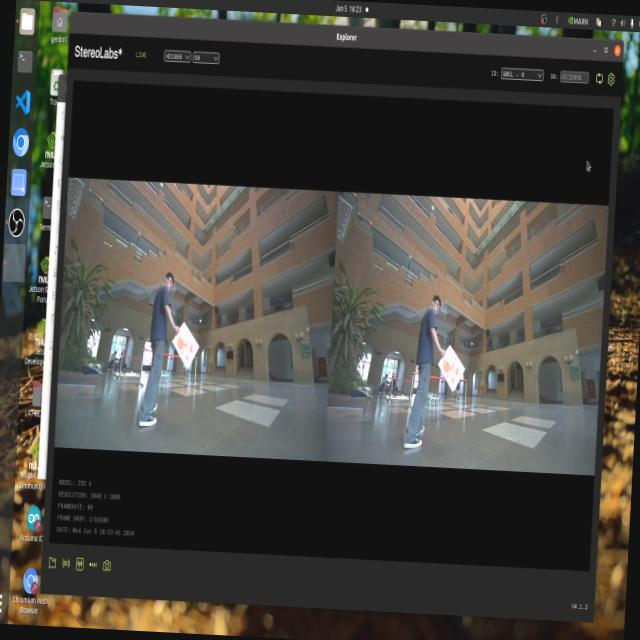red: (438, 350, 464, 394), (178, 322, 198, 369)
